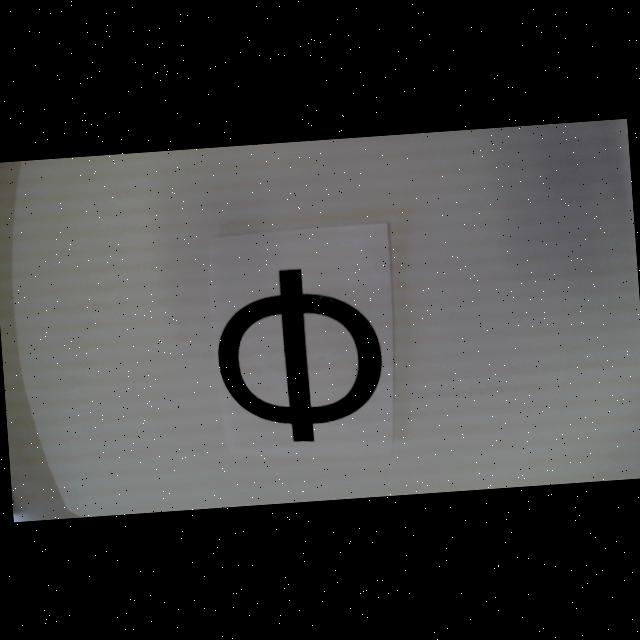PHI: (212, 263, 387, 448)
